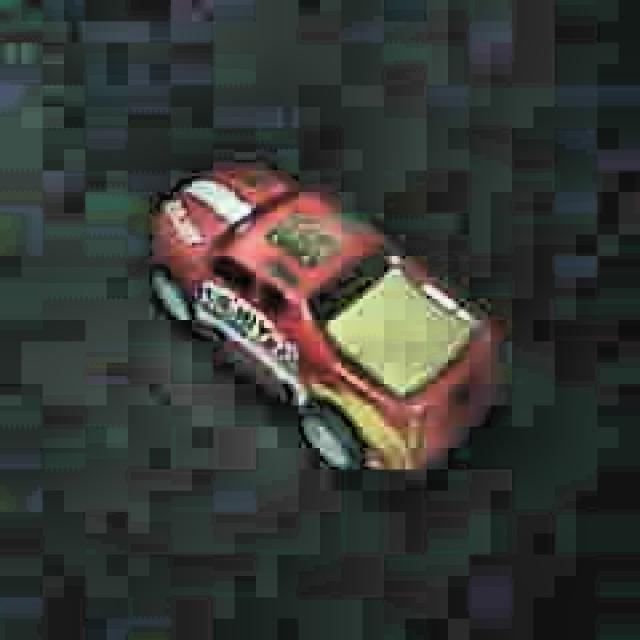car: (147, 154, 497, 481)
